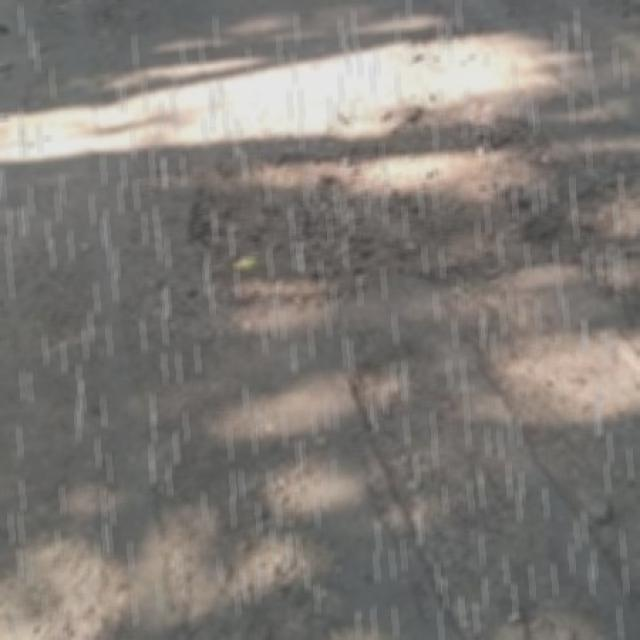road-pothole: (183, 93, 593, 300)
